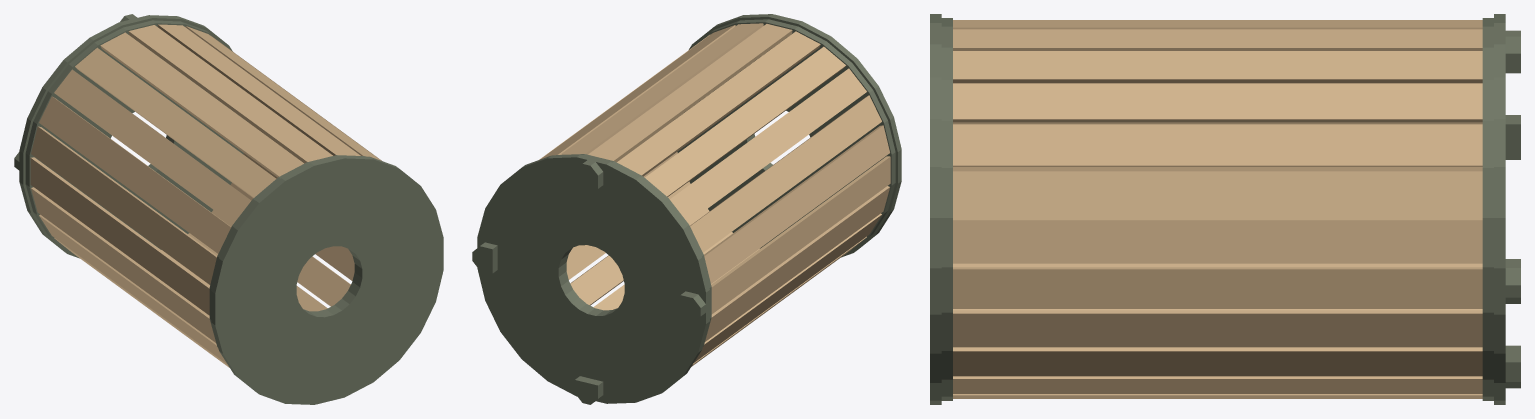
3 views of the same model, side by side, from view 1: azimuth 30°, elevation 25°; view 2: azimuth 150°, elevation 25°; view 3: azimuth 270°, elevation 25° (orthographic). The views are drawn at different scales.
Parts seen in each view (by area): view 1: wood trashcan; view 2: wood trashcan; view 3: wood trashcan.
Part boxes in pixels (x1,y1,x2,y2): wood trashcan: [14, 14, 443, 404]; wood trashcan: [472, 14, 901, 404]; wood trashcan: [930, 14, 1520, 404].
Size of the model in its own units: 25.28 by 25.28 by 38.5.
